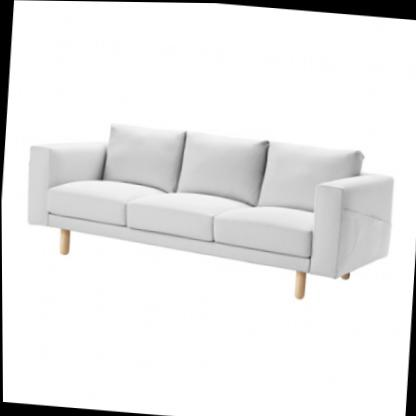Sofa: (16, 109, 400, 308)
